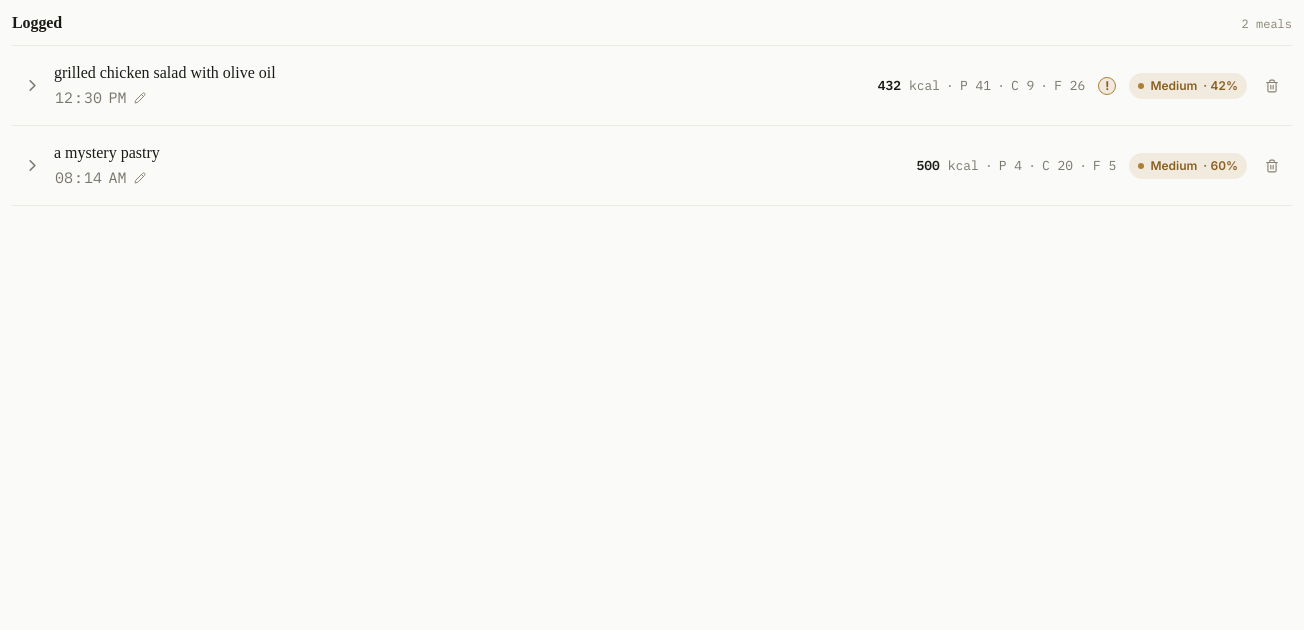
it: MealList › review flag opens the agent's work so the user can see why it's flagged
Expected: the text "Parsed 1 food" is not shown
What coordinates should you click on to do the following:
click the button named "why this was flagged"
I would click on:
 (1107, 86)
Its box is [1098, 76, 1116, 94].
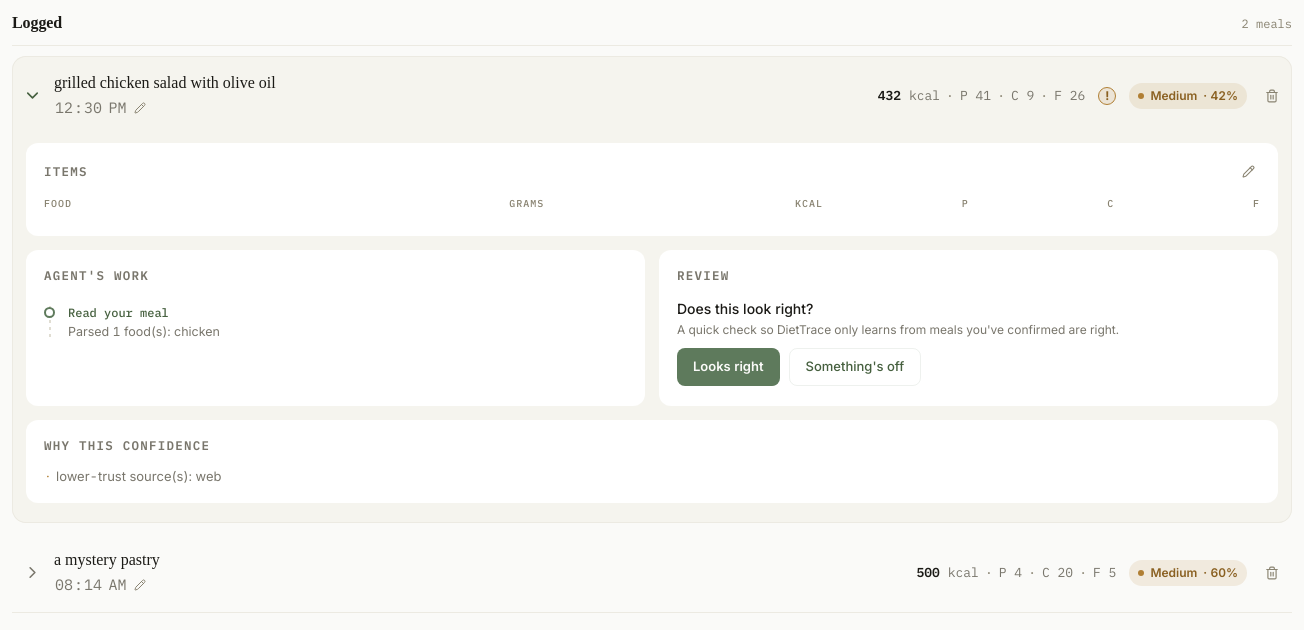
Now the text "Parsed 1 food(s): chicken" is shown, box [68, 324, 220, 339]
